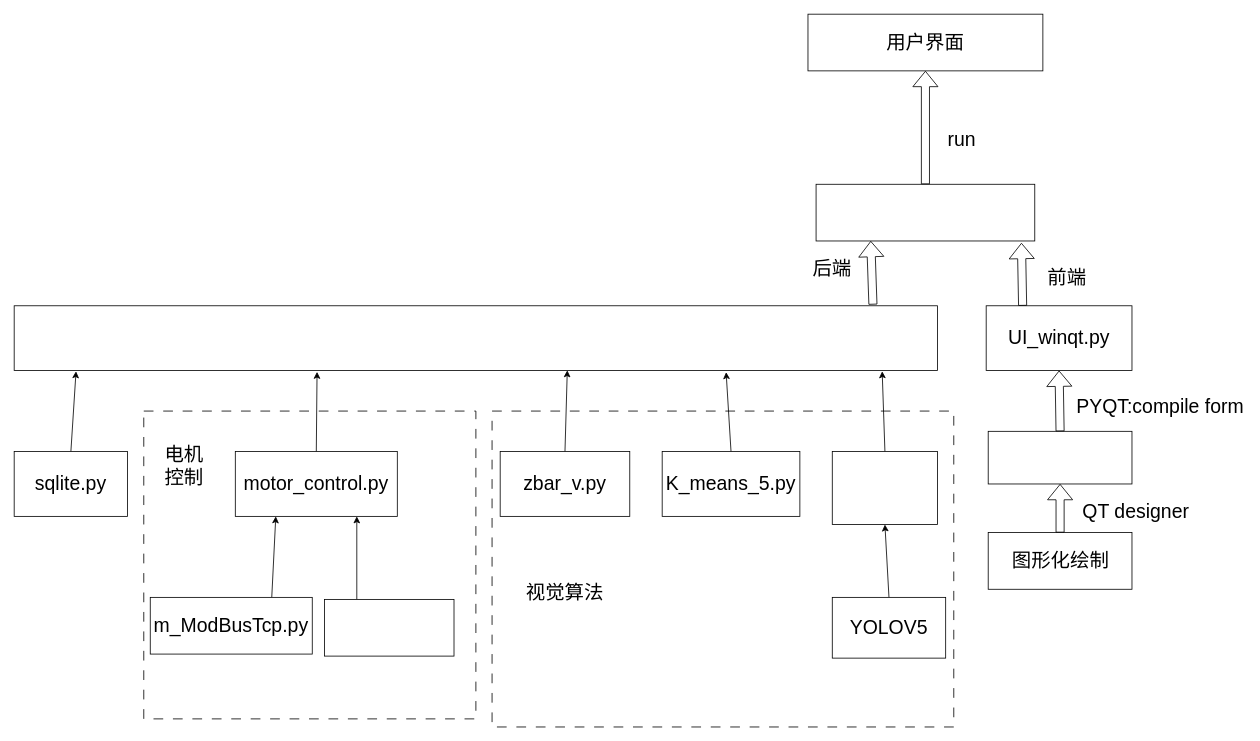
This 1260x741 diagram has some shape labels left out. The centre of each missing label's shape, as x and y in pixels:
detect.py: (884,487)
func.py: (475,338)
m_RS485.py: (389,627)
main.py: (925,212)
winqt.ui: (1059,457)
